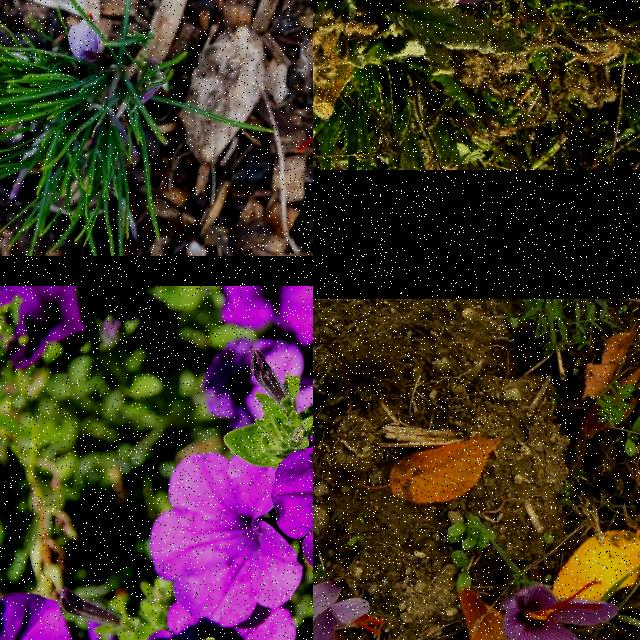flower: (499, 579, 618, 640), (313, 579, 384, 640), (295, 59, 313, 154)
